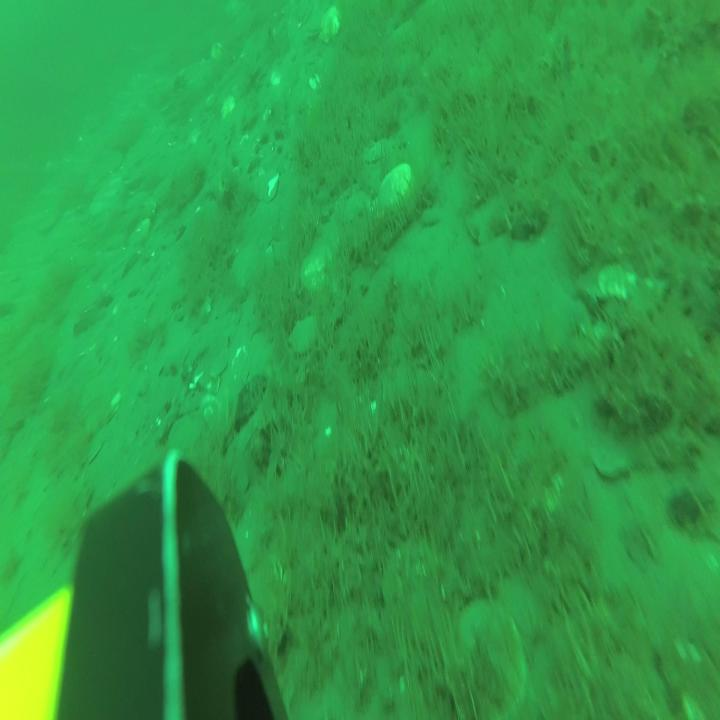scallop: (377, 166, 410, 212), (300, 250, 332, 296), (290, 314, 316, 351), (320, 8, 336, 41), (365, 137, 386, 161), (222, 96, 232, 116)
